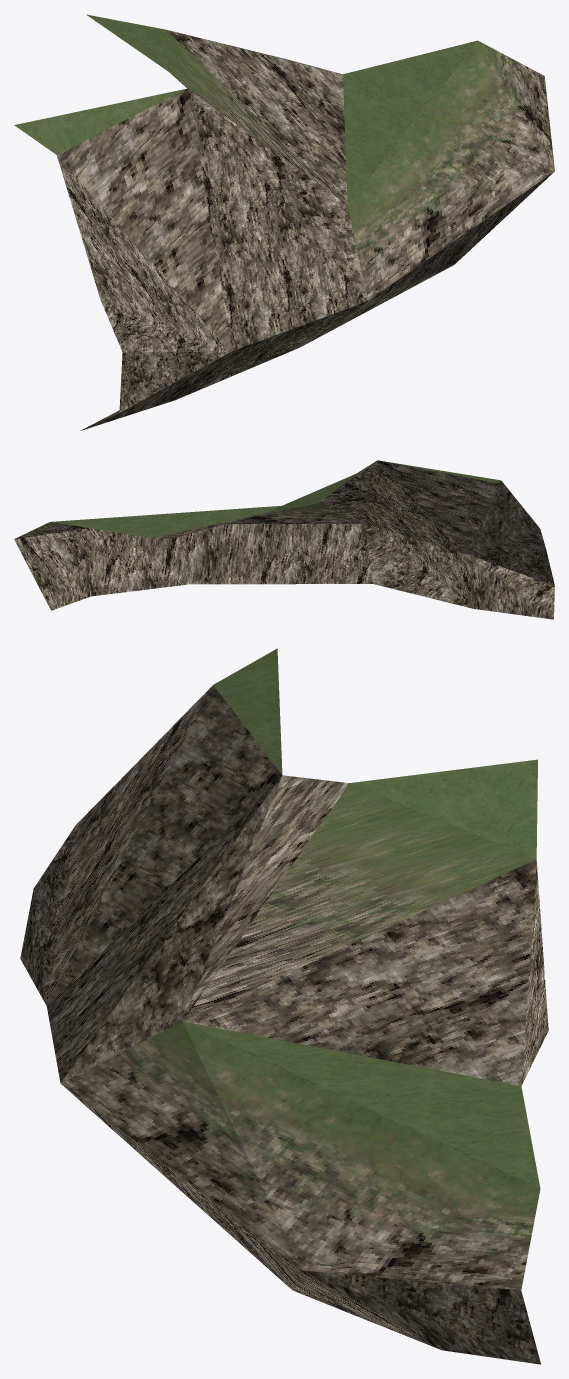
The model's file is LODa_carisle_mid_landmass_01_00.fbx.
3 views of the same model, one above another, from view 1: azimuth 30°, elevation 25°; view 2: azimuth 150°, elevation 25°; view 3: azimuth 270°, elevation 25° (orthographic). The views are drawn at different scales.
Visible parts, largest first — view 1: LODa_carisle_mid_landmass_01_00; view 2: LODa_carisle_mid_landmass_01_00; view 3: LODa_carisle_mid_landmass_01_00.
Boxes of the visible parts, <box> form: LODa_carisle_mid_landmass_01_00: <box>14,14,554,430</box>; LODa_carisle_mid_landmass_01_00: <box>14,460,554,619</box>; LODa_carisle_mid_landmass_01_00: <box>20,648,548,1364</box>.
Bounding box in the file's own units: 54.53 × 29.08 × 21.04.
